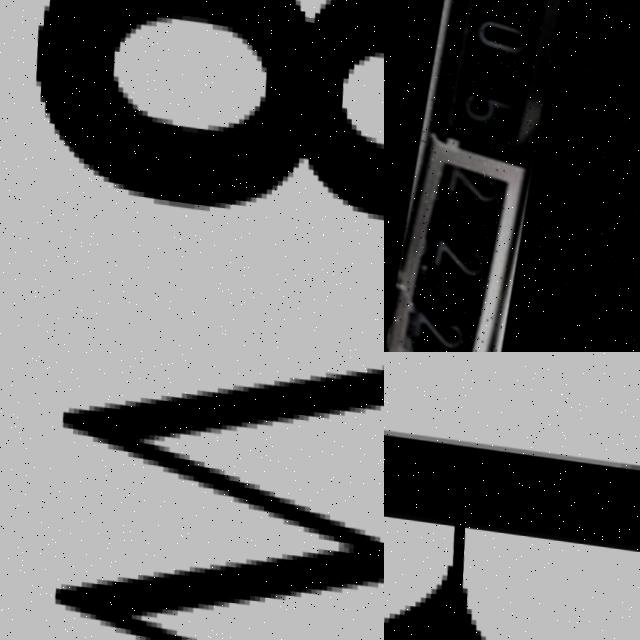0: (470, 8, 531, 55)
2: (400, 305, 467, 351), (426, 231, 486, 281), (439, 160, 504, 203)
5: (453, 81, 518, 130)
8: (16, 0, 384, 249)
R: (384, 352, 640, 640)
W: (13, 352, 384, 640)
